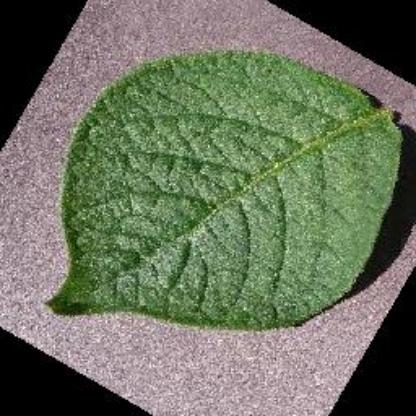Healthy-plant: (25, 28, 412, 363)
